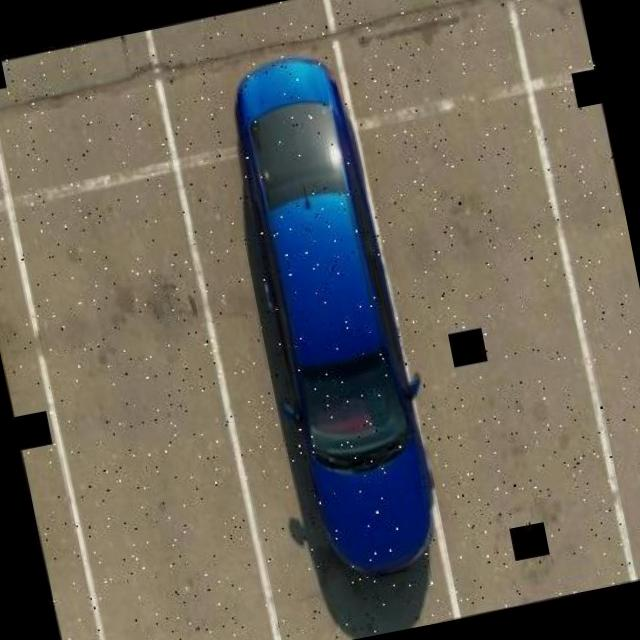car: (163, 65, 459, 640)
free: (366, 91, 622, 615), (16, 170, 280, 640), (528, 77, 640, 578)
